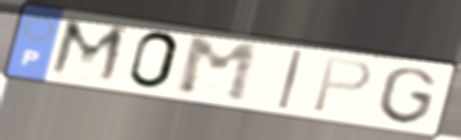0: (126, 30, 181, 92)
G: (375, 65, 440, 127)
I: (275, 47, 306, 112)
M: (44, 15, 133, 88), (175, 35, 261, 106)
P: (308, 54, 376, 115)
